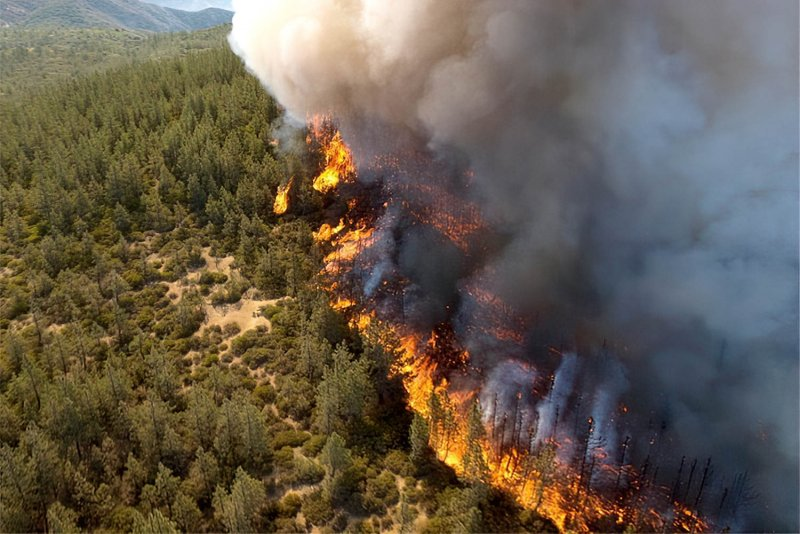fire: (348, 312, 727, 534), (269, 113, 360, 216), (310, 223, 387, 316)
